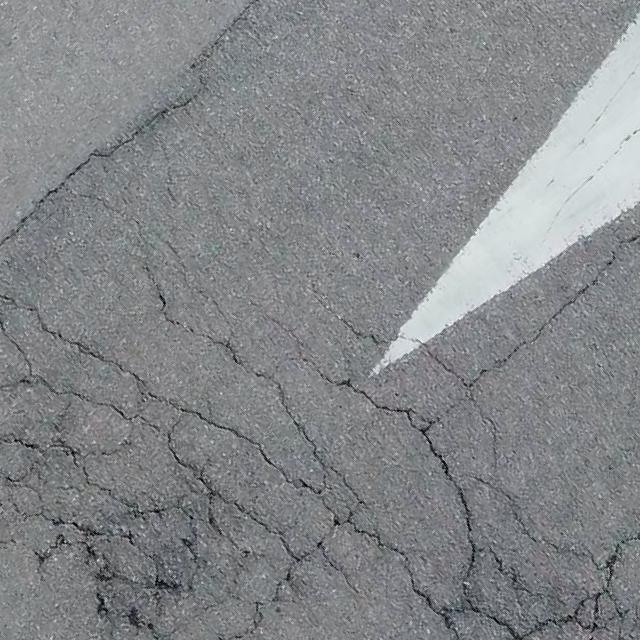GRIETA: (475, 234, 639, 380), (150, 0, 264, 122)
PIEL DE COCODRILO: (0, 118, 639, 639)
